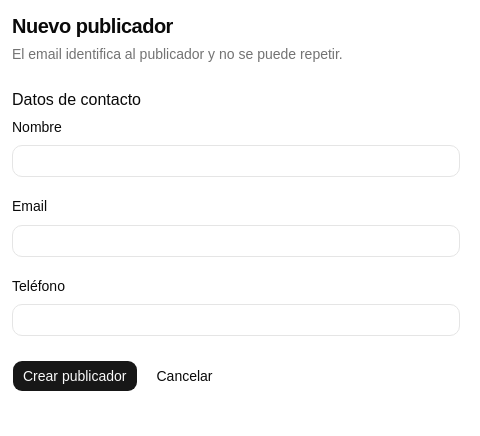
Test case: PublicadorNuevoPage › no manda nada si el email no tiene formato válido
The width and height of the screenshot is (480, 436).
Type "Sin mail válido" into the field labelled "Nombre" at (236,161), box [12, 145, 460, 177]
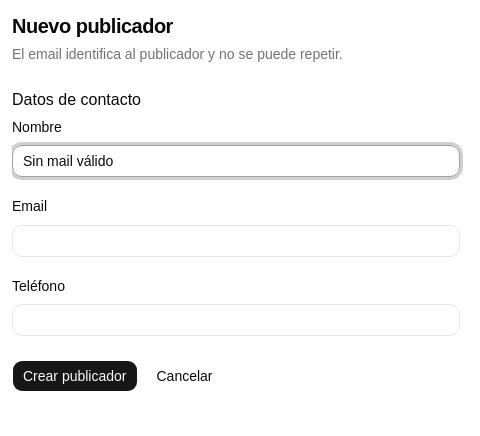
Type "esto-no-es-un-mail" into the field labelled "Email" at (236,240), box [12, 224, 460, 256]
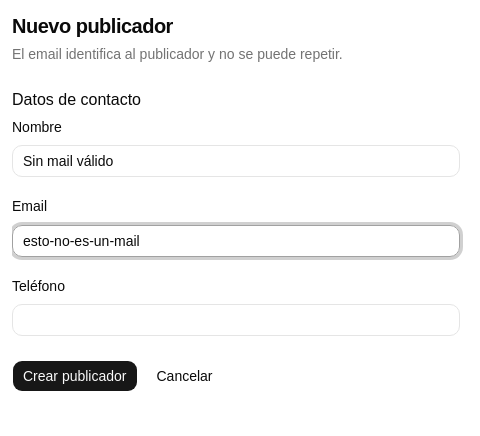
Click the button "Crear publicador" at (75,376), box [12, 360, 138, 392]
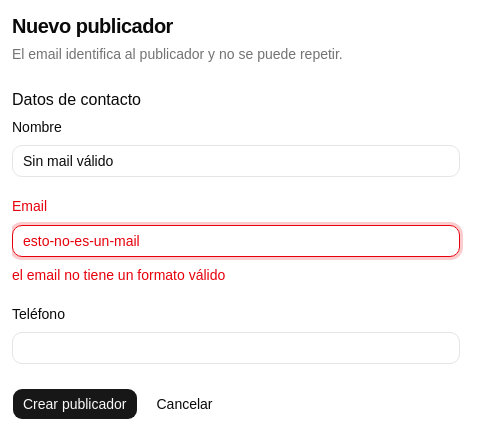
Expected: the text "el email no tiene un formato válido" is shown, [12, 266, 225, 282]
